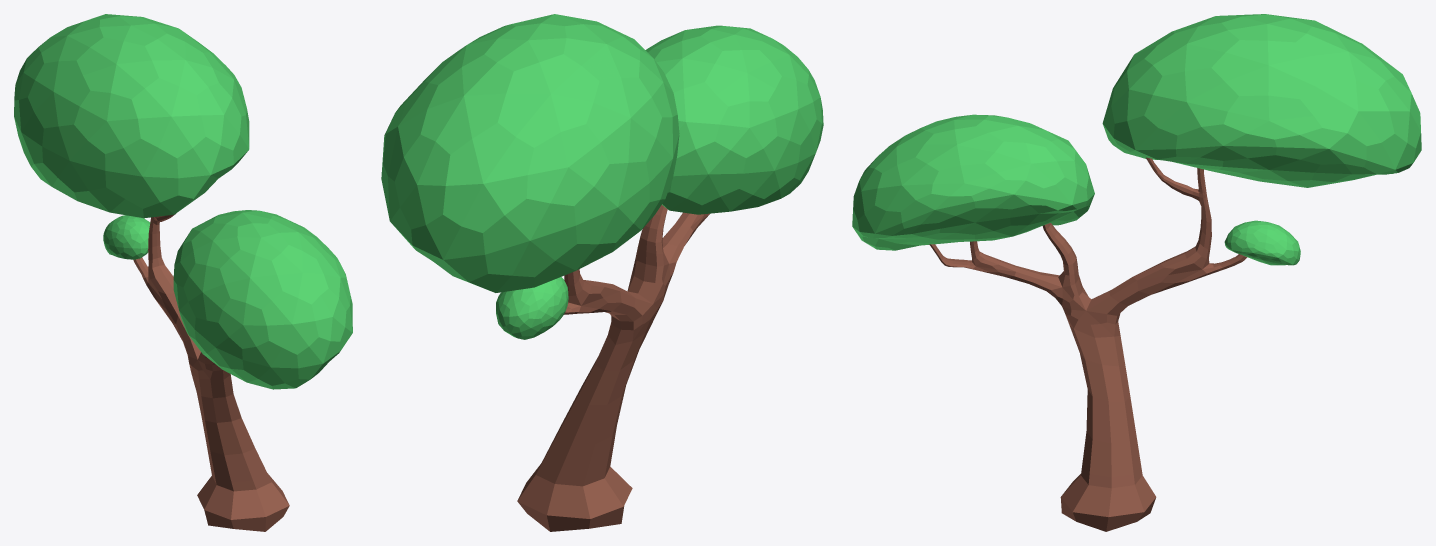
The model's file is Tree2.fbx.
The picture shows the model from 3 angles, left to right: view 1: azimuth 30°, elevation 25°; view 2: azimuth 150°, elevation 25°; view 3: azimuth 270°, elevation 25°; orthographic projection. The views are drawn at different scales.
Parts seen in each view (by area): view 1: Tree2; view 2: Tree2; view 3: Tree2.
Boxes of the visible parts, bbox=[...] form: Tree2: bbox=[14, 14, 352, 531]; Tree2: bbox=[381, 14, 823, 531]; Tree2: bbox=[852, 14, 1421, 531].
Bounding box in the file's own units: 607 × 1419 × 1541.
